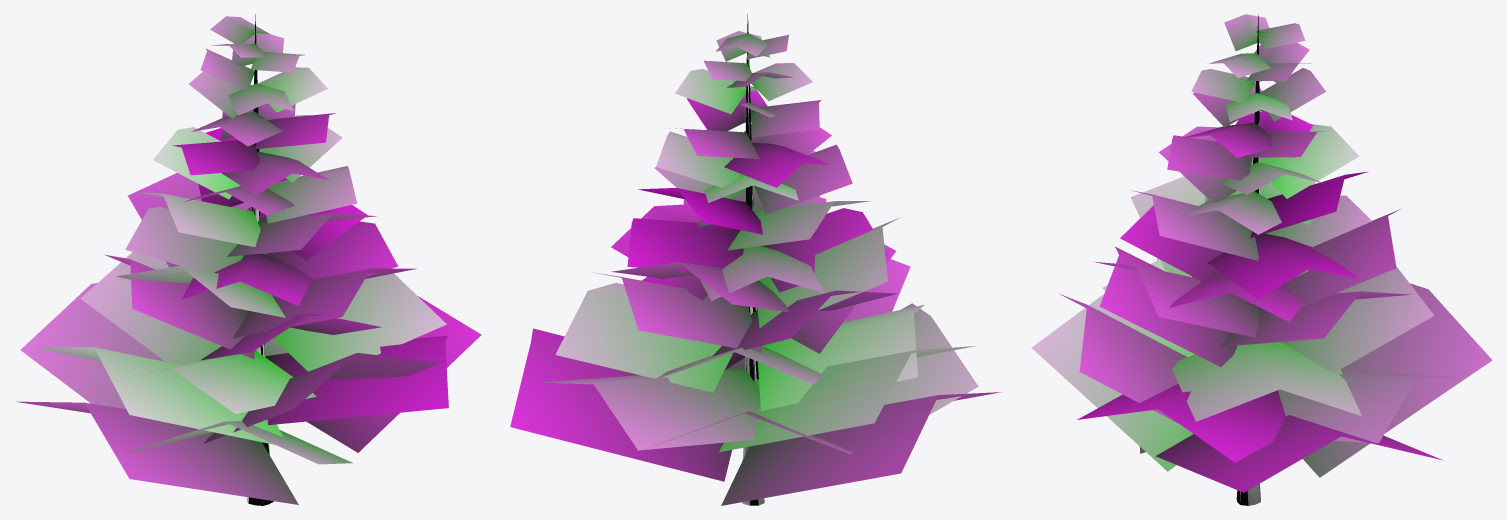
The model's file is fir_01_5m_a.dae.
3 views of the same model, side by side, from view 1: azimuth 30°, elevation 25°; view 2: azimuth 150°, elevation 25°; view 3: azimuth 270°, elevation 25° (orthographic).
Parts seen in each view (by area): view 1: fir128; view 2: fir128; view 3: fir128.
Part boxes in pixels (x1,y1,x2,y2): fir128: (16,14,481,505); fir128: (510,14,1001,505); fir128: (1031,14,1492,505).
Bounding box in the file's own units: 4.5 × 4.3 × 5.05.
